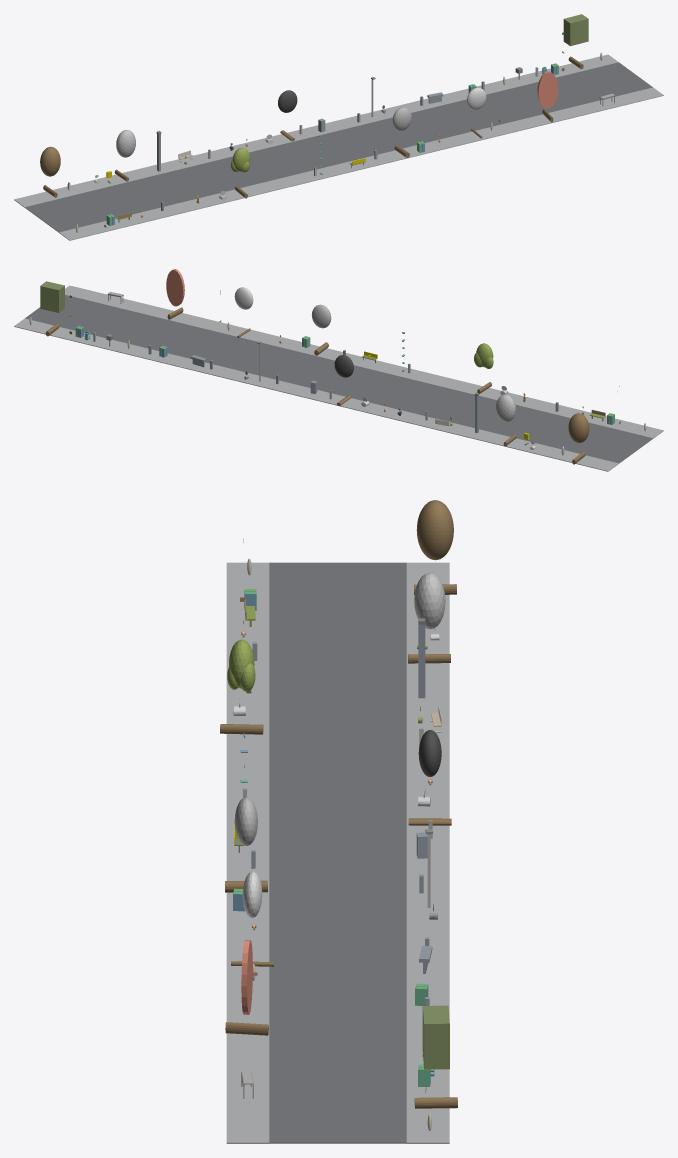
3 renders of one model, top to bottom at view 1: azimuth 30°, elevation 25°; view 2: azimuth 150°, elevation 25°; view 3: azimuth 270°, elevation 25°, orthographic. The views are drawn at different scales.
Visible parts, largest first — view 1: road_slab, sidewalk_left, sidewalk_right, inst_0025, inst_0024, inst_0018, inst_0019, inst_0020, inst_0022, inst_0021, inst_0023; view 2: road_slab, sidewalk_right, sidewalk_left, inst_0025, inst_0024, inst_0018, inst_0019, inst_0020, inst_0022, inst_0021, inst_0023; view 3: road_slab, sidewalk_left, sidewalk_right, inst_0025, inst_0018, inst_0019, inst_0020, inst_0024, inst_0021, inst_0022, inst_0023.
Boxes of the visible parts, x1,y1,x2,y2 form: road_slab: [25, 62, 652, 232]; sidewalk_left: [59, 87, 663, 240]; sidewalk_right: [14, 54, 618, 207]; inst_0025: [563, 14, 588, 69]; inst_0024: [537, 71, 558, 122]; inst_0018: [40, 146, 60, 197]; inst_0019: [114, 129, 135, 181]; inst_0020: [230, 147, 250, 198]; inst_0022: [392, 107, 411, 157]; inst_0021: [278, 90, 297, 141]; inst_0023: [467, 87, 486, 138]; road_slab: [25, 295, 652, 463]; sidewalk_right: [14, 318, 618, 471]; sidewalk_left: [65, 285, 663, 438]; inst_0025: [40, 281, 64, 336]; inst_0024: [166, 269, 184, 319]; inst_0018: [568, 413, 589, 464]; inst_0019: [496, 394, 516, 446]; inst_0020: [474, 343, 493, 393]; inst_0022: [312, 304, 331, 355]; inst_0021: [334, 355, 353, 405]; inst_0023: [234, 287, 253, 337]; road_slab: [269, 562, 406, 1143]; sidewalk_left: [226, 562, 269, 1143]; sidewalk_right: [406, 562, 449, 1143]; inst_0025: [414, 1005, 457, 1108]; inst_0018: [414, 500, 456, 595]; inst_0019: [408, 572, 450, 663]; inst_0020: [220, 639, 263, 734]; inst_0024: [225, 940, 268, 1035]; inst_0021: [408, 730, 451, 825]; inst_0022: [225, 797, 267, 892]; inst_0023: [231, 871, 273, 966].
Bounding box in the file's own units: 80 × 6.08 × 13.86.
